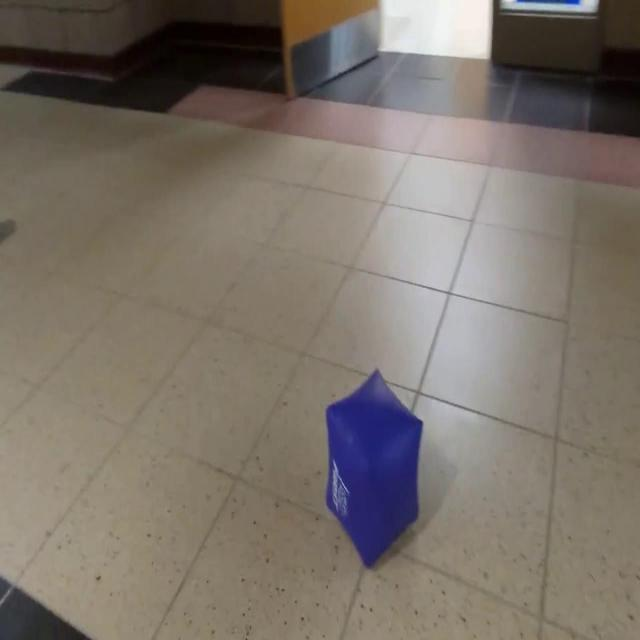frc_cube: (324, 366, 424, 572)
